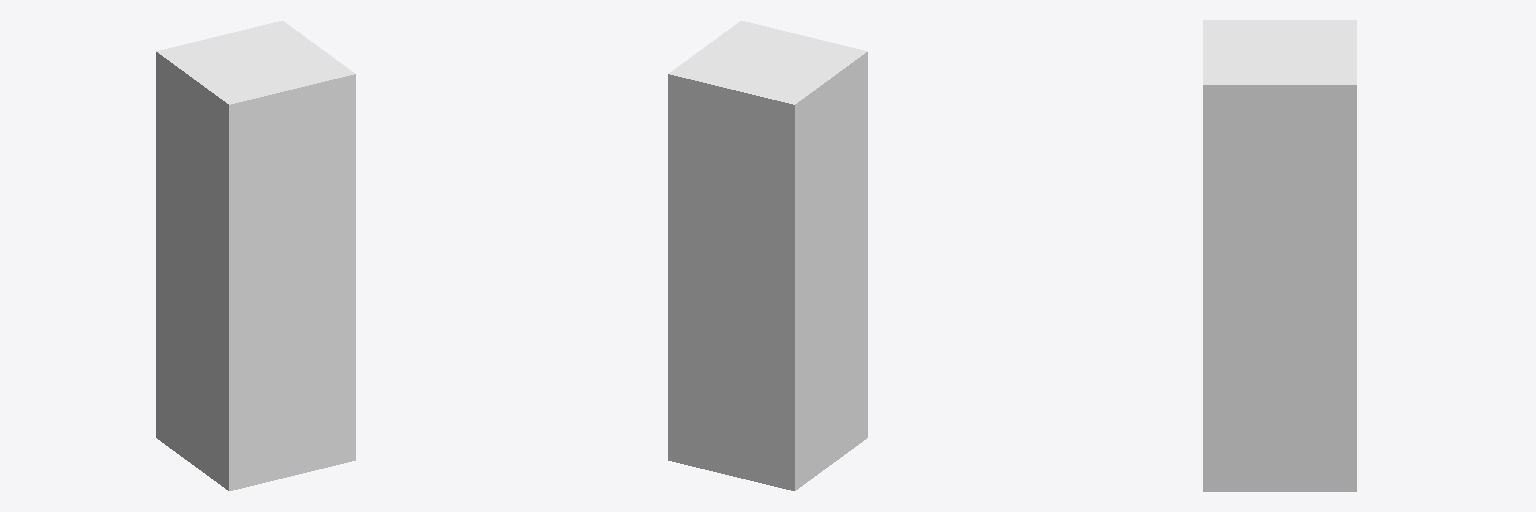
robot.urdf — Square_cube_cap:
<?xml version="1.0" ?>
<robot name="Square_cube_cap">
  <link name="baseLink">
    <contact>
    	<friction_anchor/>
    	   <lateral_friction value="1.0"/>
    </contact>
    <inertial>
      <origin rpy="0 0 0" xyz="0 0 0"/>
       <!-- mass controls penetration -->
       <inertia ixx="1e-4" ixy="0" ixz="0" iyy="1e-4" iyz="0" izz="1e-4"/>
    </inertial>
    <visual>
      <origin rpy="0 0 0" xyz="0 0 0"/>
      <geometry>
        <mesh filename="Square_cube_cap.obj" scale="0.6 0.6 0.6"/>
      </geometry>
       <material name="white">
        <color rgba="1 1 1 1"/>
      </material>
    </visual>
    <collision>
      <origin rpy="0 0 0" xyz="0 0 0"/>
      <geometry>
        <mesh filename="Square_cube_cap.obj" scale="0.6 0.6 0.6"/>
      </geometry>
      <sdf resolution="300"/>
    </collision>
  </link>
</robot>

--- Facts derived from the render (not from the file) ---
3 views of the same robot in one strip: view 1: azimuth 30°, elevation 25°; view 2: azimuth 150°, elevation 25°; view 3: azimuth 270°, elevation 25° (orthographic).
Robot: Square_cube_cap — 1 links, 0 joints (none); root link baseLink; default pose: all joints at 0.
Visible links, largest first — view 1: baseLink; view 2: baseLink; view 3: baseLink.
Boxes of the visible links, x1,y1,x2,y2 form: baseLink: (156,21,355,490); baseLink: (668,21,867,490); baseLink: (1203,20,1356,491).
Bounding box of the posed robot: 0.0204 × 0.0204 × 0.0594 m (x, y, z).
Meshes: 1 distinct files referenced, 1 mesh visuals loaded (1 OBJ).